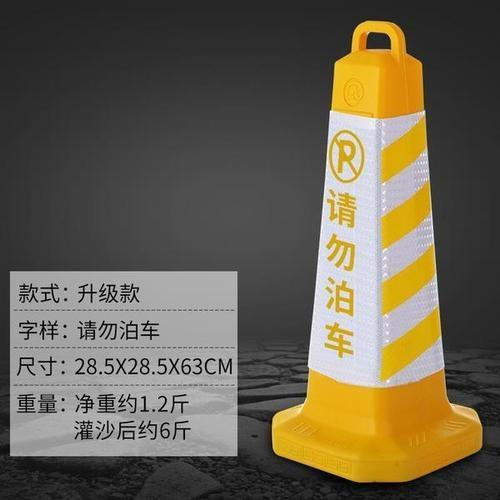cone_barrel: (269, 25, 481, 476)
